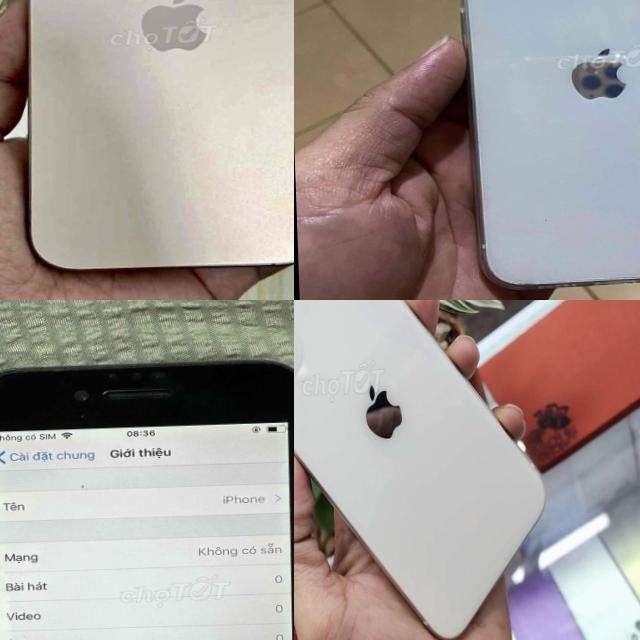gen_11: (294, 300, 555, 640)
gen_12_13: (453, 0, 640, 296)
gen_16: (1, 0, 294, 281)
gen_7_8: (0, 348, 294, 640)
